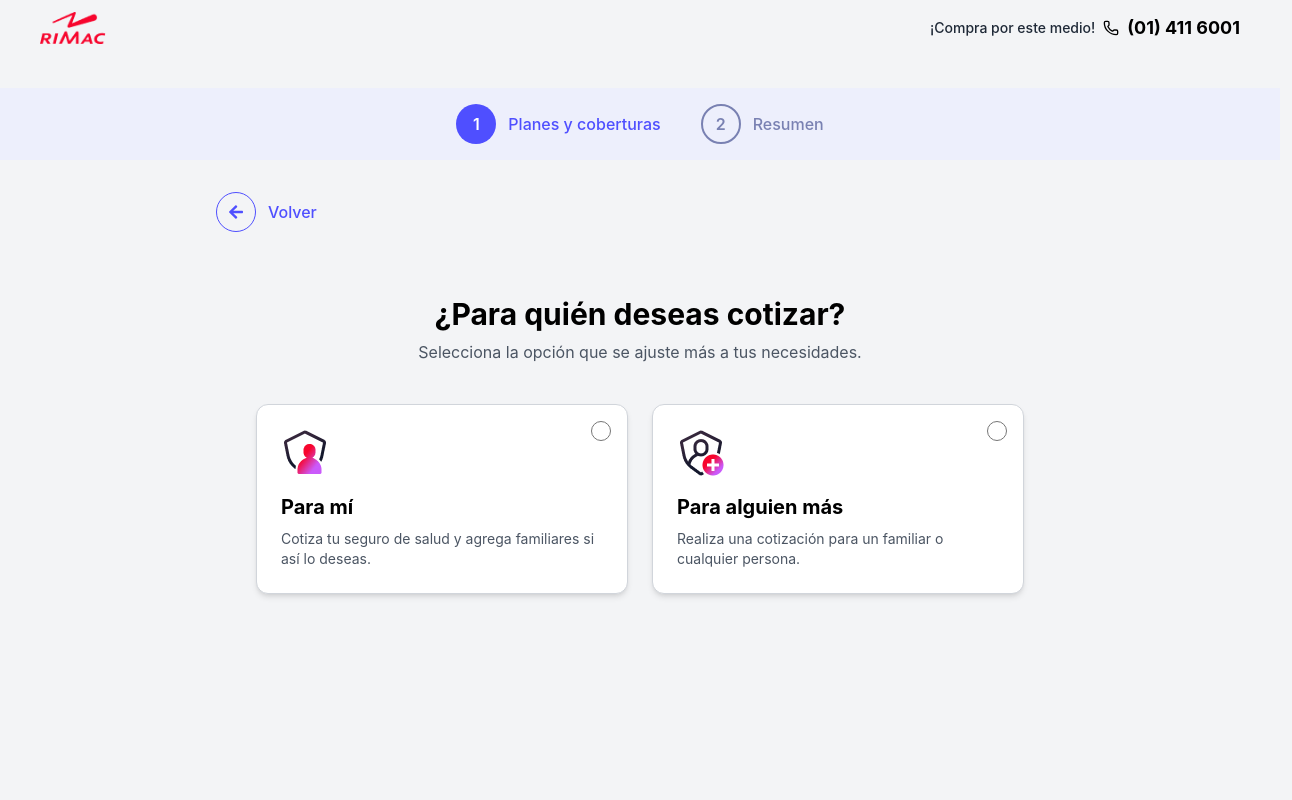
Test case: Componente Cotizacion › muestra los planes correctos cuando se selecciona 'Para alguien más' (versión escritorio)
// Seleccionar la opción “Para alguien más”
Click the heading "Para alguien más".
click(760, 507)  # box [677, 495, 843, 519]
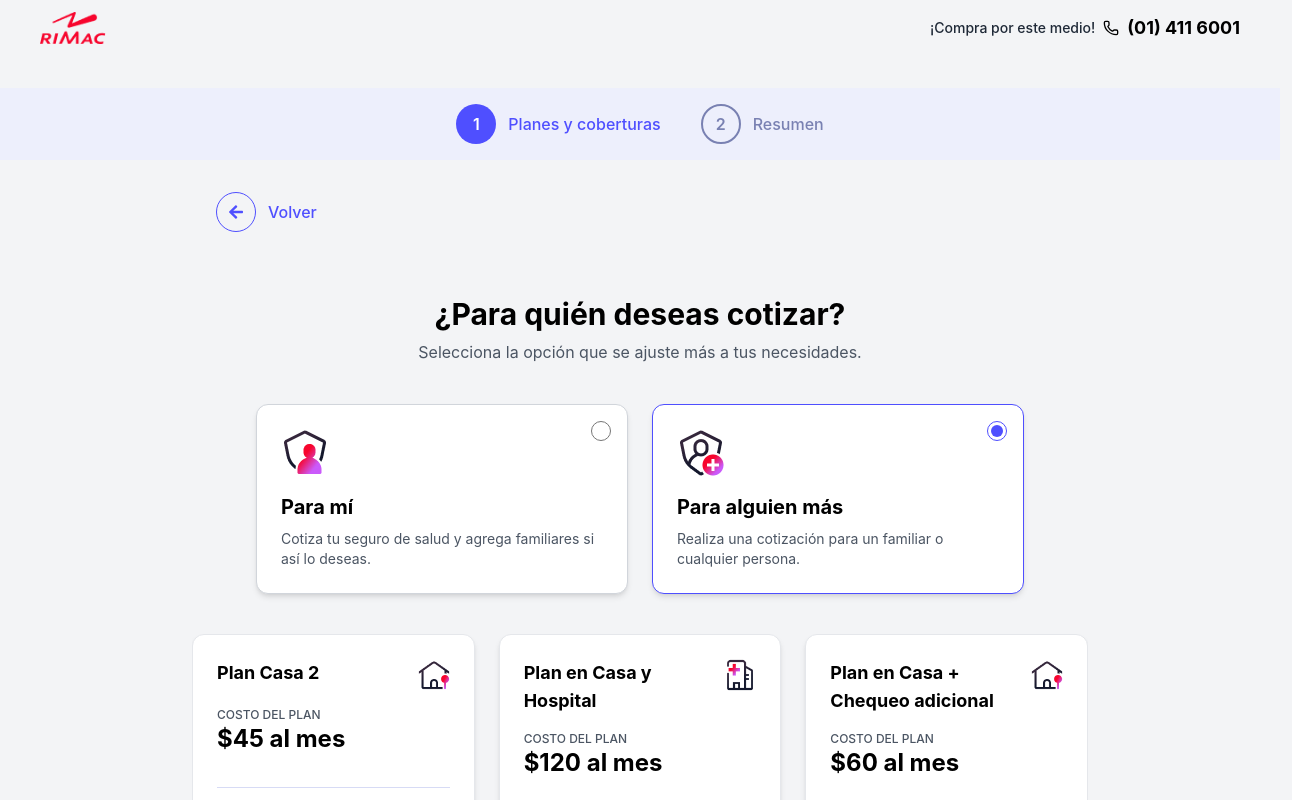
Expected: the heading "Plan Casa 2" is shown, [217, 659, 319, 687]
Expected: the heading "Plan en Casa y Hospital" is shown, [524, 662, 652, 711]
